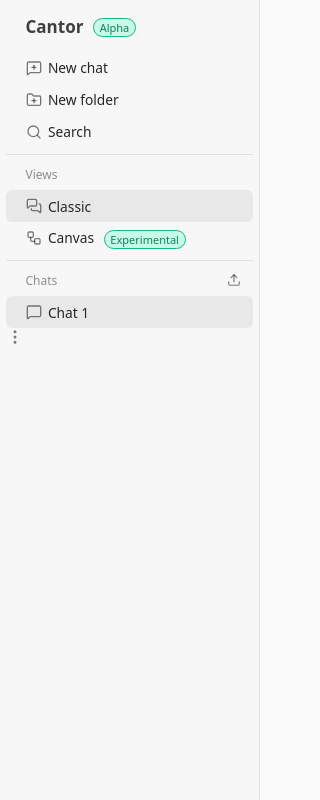
Scenario: AppSidebar › creates chats with unique names through the sidebar
Step 1. Click the button "New chat" → (130,68), box [6,52,253,84]
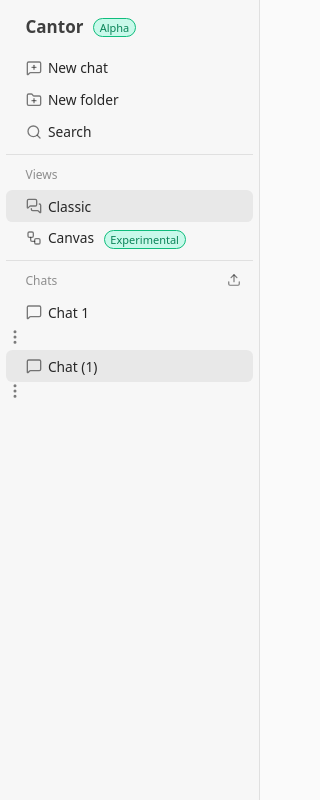
Step 2. Click the button "New chat" → (130,68), box [6,52,253,84]
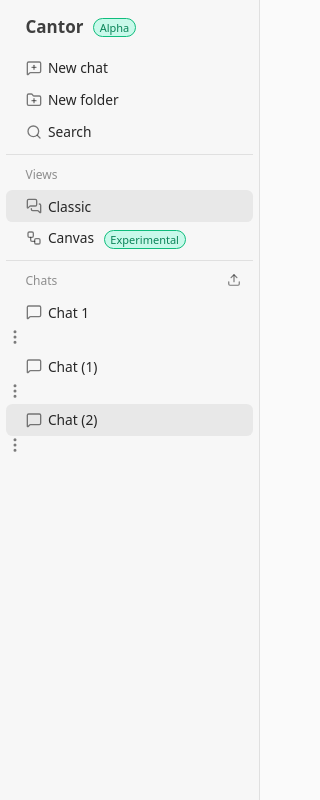
Expected: the text "Chat 1" is shown, [48,303,89,322]
Expected: the text "Chat (1)" is shown, [48,357,98,376]
Expected: the text "Chat (2)" is shown, [48,410,98,429]
